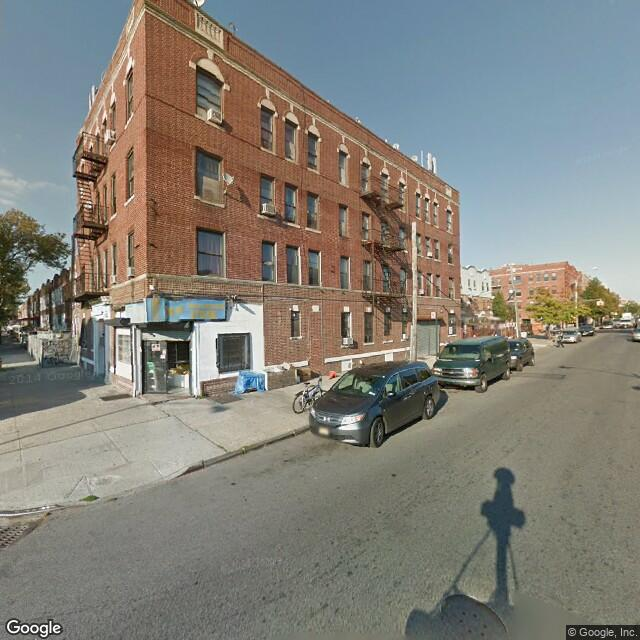litter: (41, 506, 50, 510), (242, 447, 246, 452)
